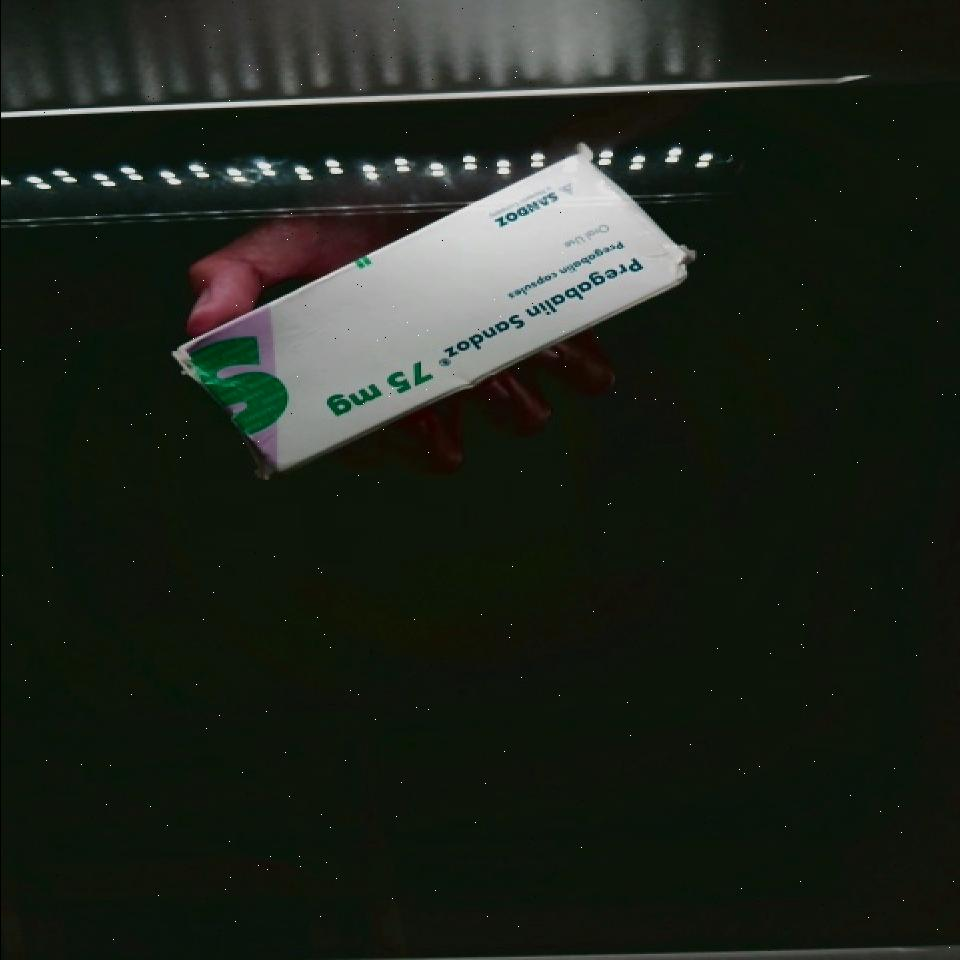medicine_box: (174, 130, 685, 486)
medicine_label_obb: (412, 226, 677, 390)
